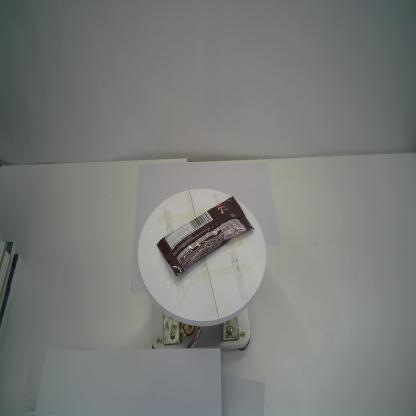Chocolate: (155, 194, 255, 280)
